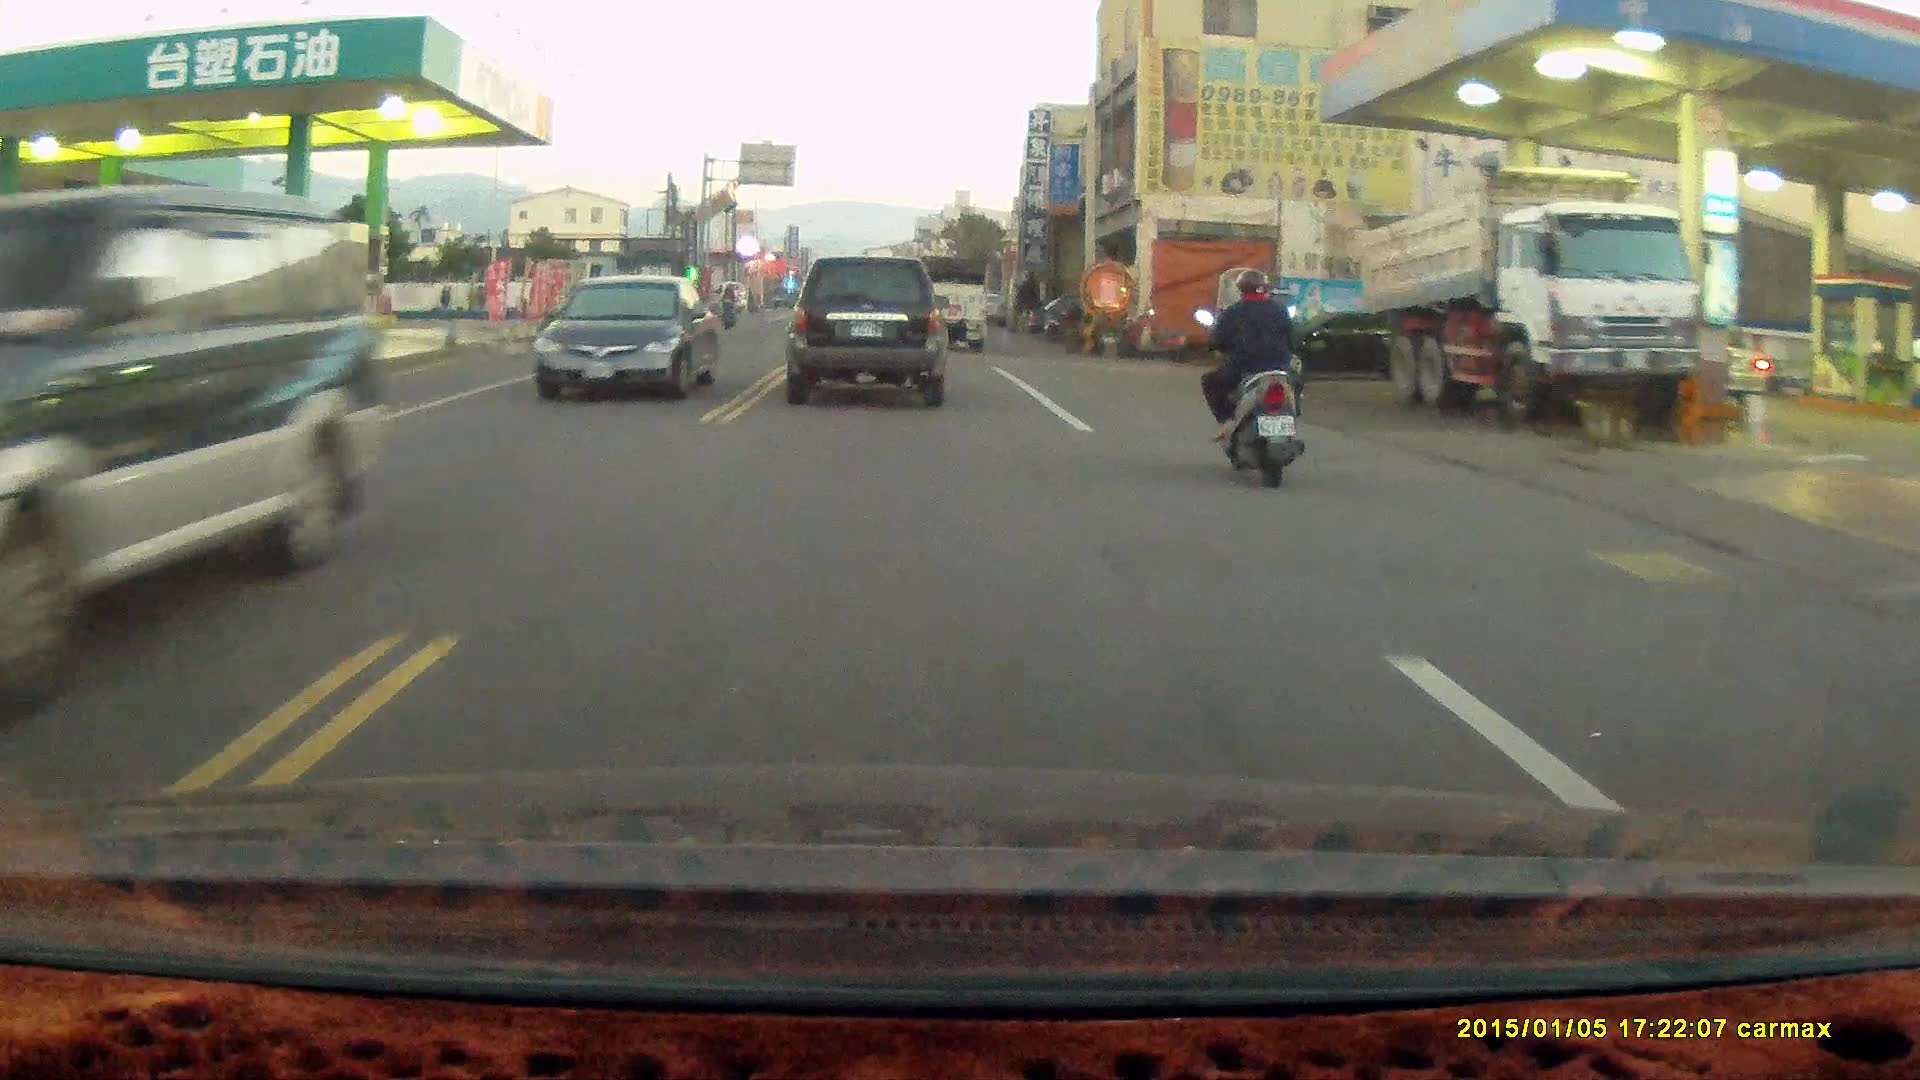rider: (1191, 267, 1306, 490), (714, 283, 738, 333)
vehicle: (1, 181, 390, 683), (1361, 162, 1698, 418), (789, 253, 953, 404), (537, 272, 720, 404), (902, 255, 992, 354)
